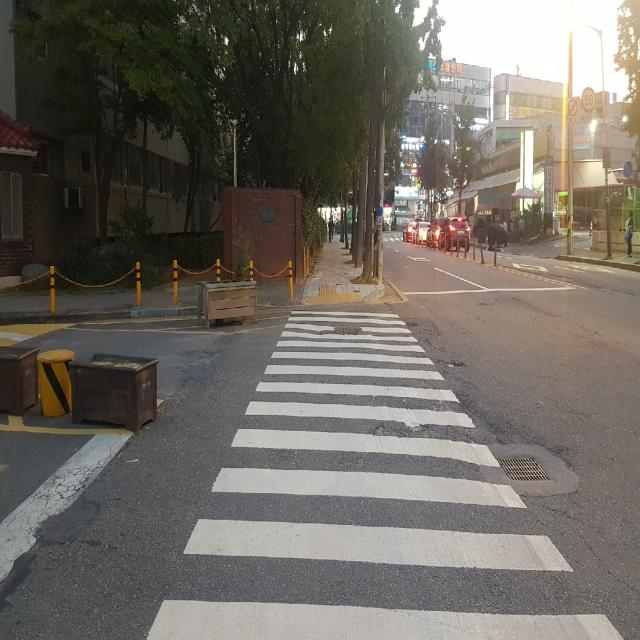횡단보도: (146, 308, 625, 640)
